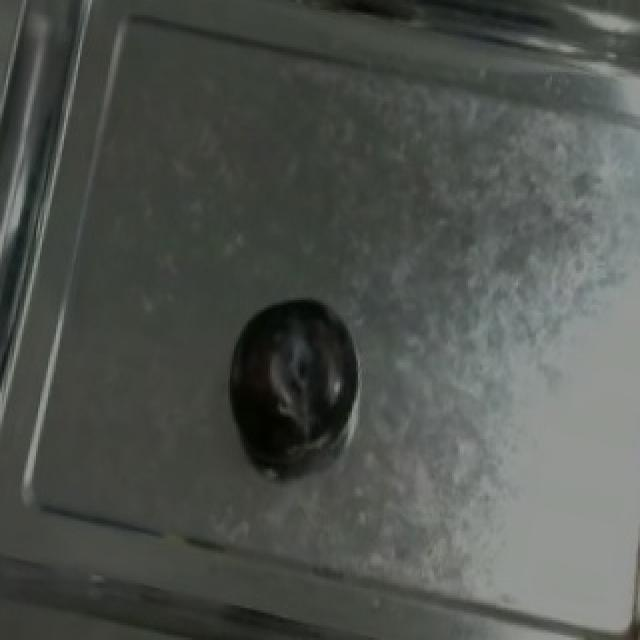Fruit: (214, 283, 360, 469)
